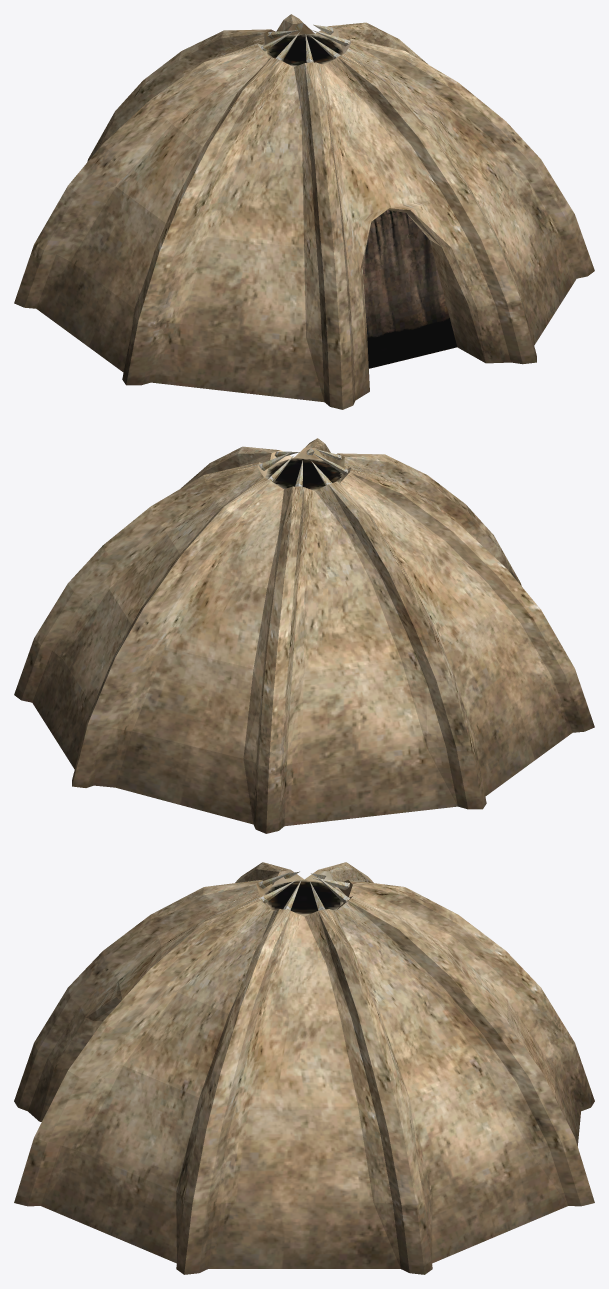
The model's file is poi_tato_tusken_hut_s01_l1.fbx.
3 views of the same model, one above another, from view 1: azimuth 30°, elevation 25°; view 2: azimuth 150°, elevation 25°; view 3: azimuth 270°, elevation 25° (orthographic). The views are drawn at different scales.
Visible parts, largest first — view 1: mesh_node; view 2: mesh_node; view 3: mesh_node.
Part boxes in pixels (box(x1,y1,x2,y2)): mesh_node: box(14, 14, 594, 409); mesh_node: box(14, 438, 594, 833); mesh_node: box(14, 862, 594, 1274).
Bounding box in the file's own units: 6.93 × 3.66 × 6.93.
